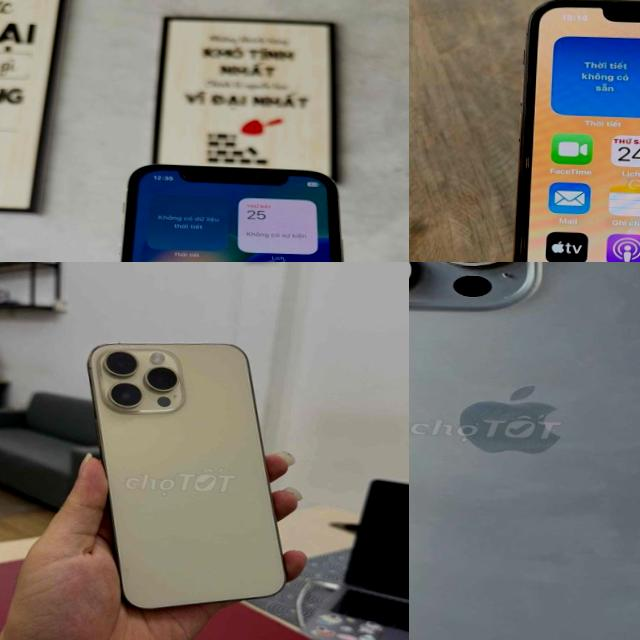gen_14: (78, 328, 298, 622)
gen_15: (409, 262, 640, 640)
gen_x_xs: (503, 0, 640, 262), (84, 154, 380, 262)
